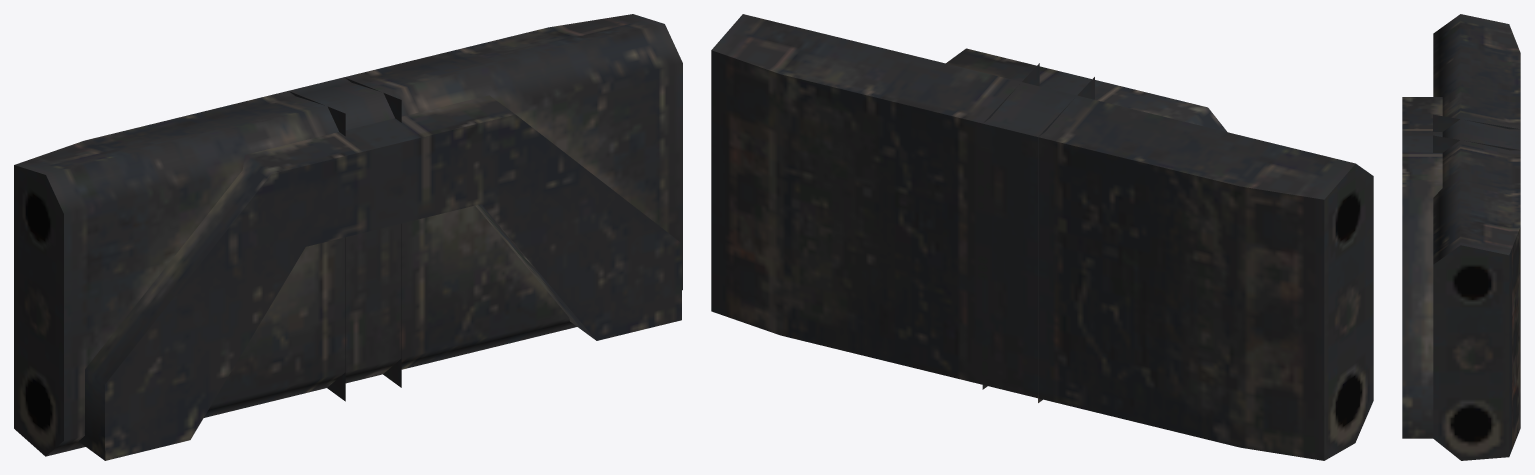
The picture shows the model from 3 angles, left to right: view 1: azimuth 30°, elevation 25°; view 2: azimuth 150°, elevation 25°; view 3: azimuth 270°, elevation 25°; orthographic projection. The views are drawn at different scales.
Parts seen in each view (by area): view 1: set_0_group_0; view 2: set_0_group_0; view 3: set_0_group_0.
Part boxes in pixels (x1,y1,x2,y2): set_0_group_0: (14, 14, 682, 460); set_0_group_0: (711, 14, 1373, 460); set_0_group_0: (1402, 14, 1520, 460).
Size of the model in its own units: 0.4397 by 0.1956 by 0.0953.
Materials: 1 (1 with a texture image).
